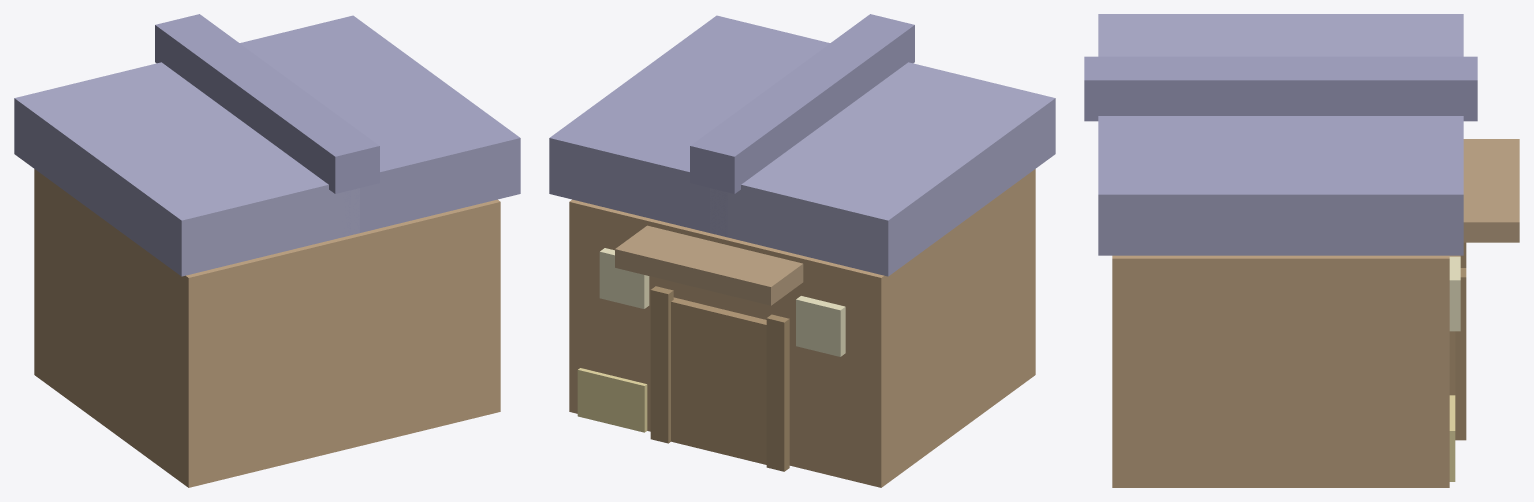
The model's file is shelter.glb.
3 views of the same model, side by side, from view 1: azimuth 30°, elevation 25°; view 2: azimuth 150°, elevation 25°; view 3: azimuth 270°, elevation 25° (orthographic). The views are drawn at different scales.
Visible parts, largest first — view 1: Shelter; view 2: Shelter; view 3: Shelter.
Boxes of the visible parts, <box> form: Shelter: <box>14,14,520,487</box>; Shelter: <box>549,14,1055,487</box>; Shelter: <box>1084,14,1519,487</box>.
Bounding box in the file's own units: 0.76 × 0.66 × 0.775.
